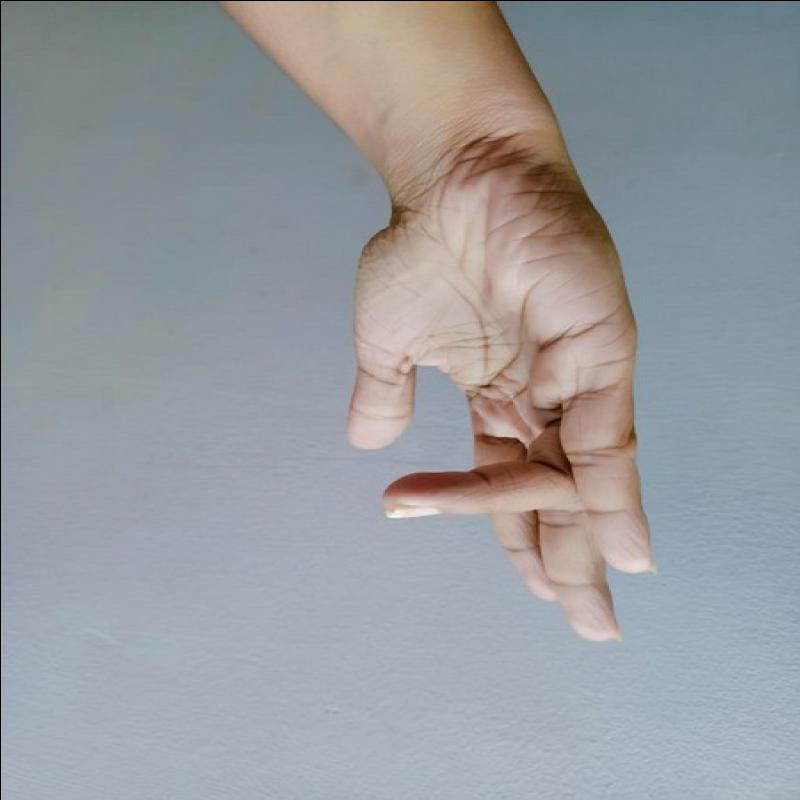Pathaaka: (305, 165, 713, 651)
